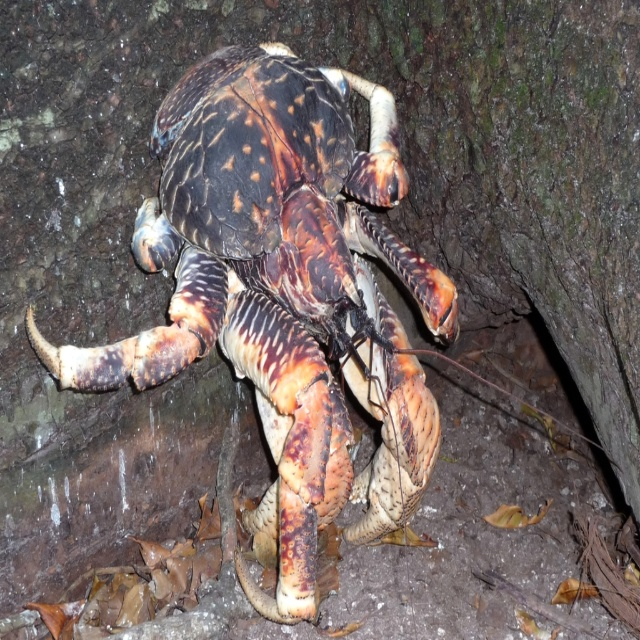Crab: (24, 46, 468, 626)
